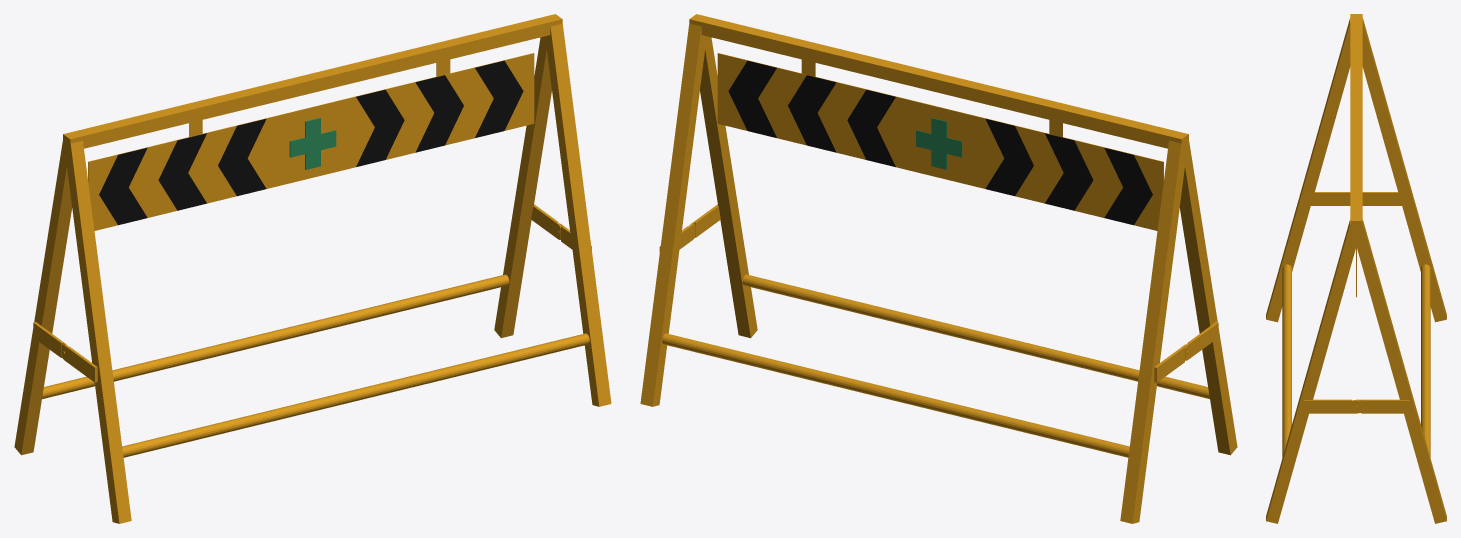
The model's file is barricade.glb.
The picture shows the model from 3 angles, left to right: view 1: azimuth 30°, elevation 25°; view 2: azimuth 150°, elevation 25°; view 3: azimuth 270°, elevation 25°; orthographic projection. The views are drawn at different scales.
Visible parts, largest first — view 1: Barricade; view 2: Barricade; view 3: Barricade.
Boxes of the visible parts, x1,y1,x2,y2 form: Barricade: [14, 14, 611, 523]; Barricade: [640, 14, 1237, 523]; Barricade: [1266, 14, 1446, 523].
Bounding box in the file's own units: 1.18 × 0.7996 × 0.4323.
